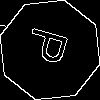P: (25, 25, 78, 69)
